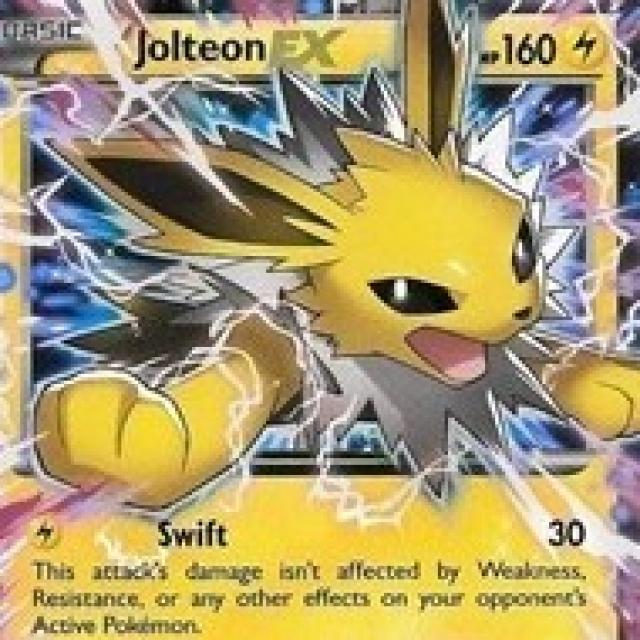Jolteon: (36, 78, 640, 506)
